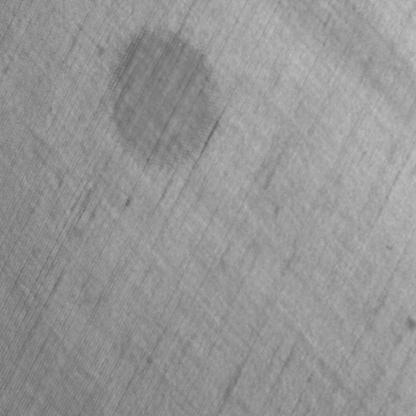oil spot: (106, 22, 224, 165)
